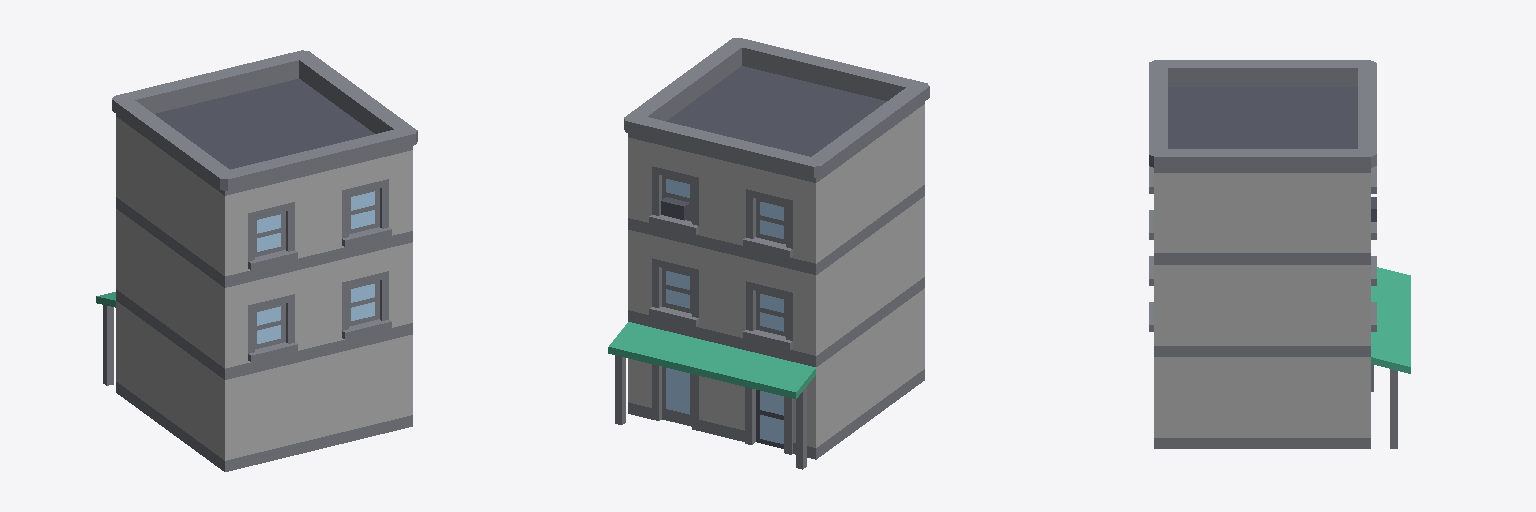
File: city_shop_d.obj
3 views of the same model, side by side, from view 1: azimuth 30°, elevation 25°; view 2: azimuth 150°, elevation 25°; view 3: azimuth 270°, elevation 25° (orthographic).
Visible parts, largest first — view 1: mergedBlocks; view 2: mergedBlocks; view 3: mergedBlocks.
Boxes of the visible parts, x1,y1,x2,y2 form: mergedBlocks: [96, 50, 417, 471]; mergedBlocks: [608, 38, 929, 469]; mergedBlocks: [1149, 60, 1410, 448].
Bounding box in the file's own units: 0.5376 × 0.768 × 0.6195.